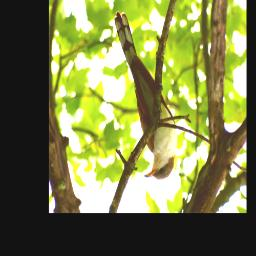Cuckoo: (114, 10, 178, 180)
